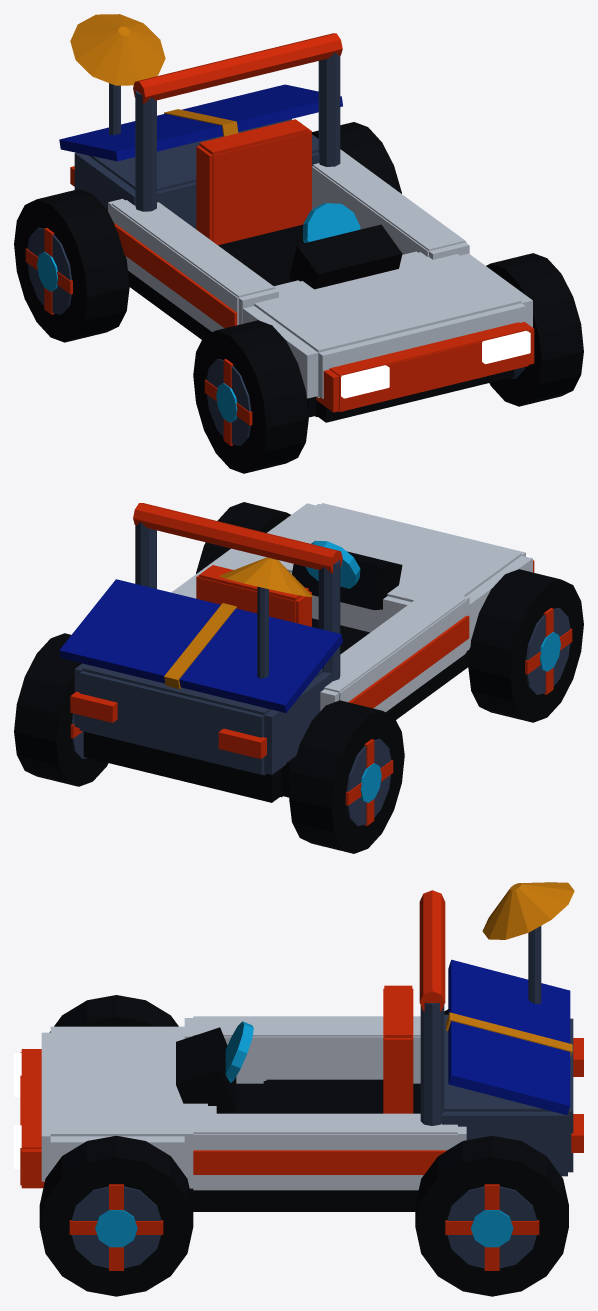
Rendered from astronaut_rover.glb.
The picture shows the model from 3 angles, top to bottom: view 1: azimuth 30°, elevation 25°; view 2: azimuth 150°, elevation 25°; view 3: azimuth 270°, elevation 25°; orthographic projection. The views are drawn at different scales.
Visible parts, largest first — view 1: RoverChassis, RoverWheelFL, RoverWheelRL, RoverWheelFR, RoverWheelRR; view 2: RoverChassis, RoverWheelRL, RoverWheelFL, RoverWheelRR, RoverWheelFR; view 3: RoverChassis, RoverWheelFR, RoverWheelRR, RoverWheelFL.
Part boxes in pixels (box(x1,y1,x2,y2)): RoverChassis: box(59, 14, 534, 422); RoverWheelFL: box(193, 320, 308, 473); RoverWheelRL: box(14, 189, 129, 342); RoverWheelFR: box(486, 253, 583, 406); RoverWheelRR: box(312, 122, 401, 193); RoverChassis: box(59, 503, 534, 802); RoverWheelRL: box(289, 700, 404, 853); RoverWheelFL: box(468, 569, 583, 722); RoverWheelRR: box(14, 633, 108, 786); RoverWheelFR: box(196, 502, 290, 573); RoverChassis: box(14, 882, 583, 1211); RoverWheelFR: box(39, 1135, 193, 1296); RoverWheelRR: box(415, 1135, 568, 1296); RoverWheelFL: box(49, 995, 178, 1032).
Size of the model in its own units: 1.84 by 1.52 by 2.67.
